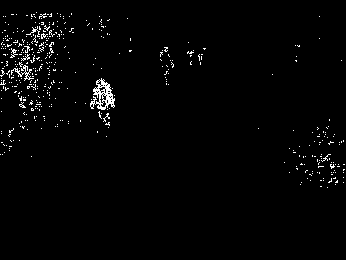person: (90, 78, 116, 129), (158, 45, 175, 86)
